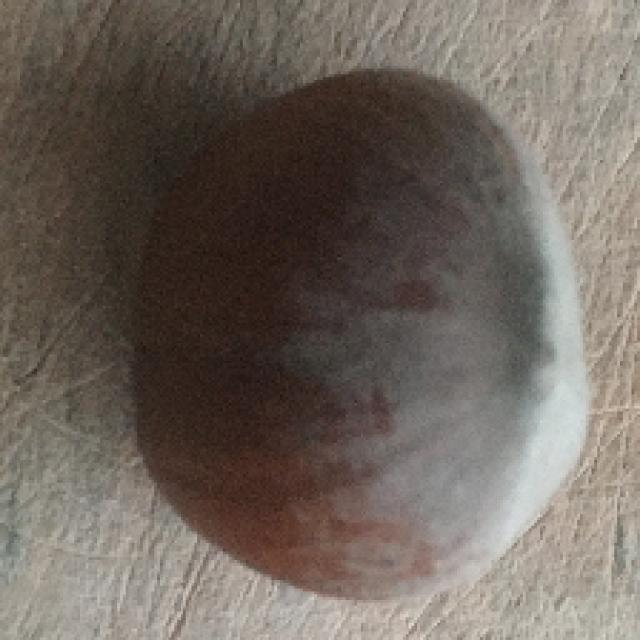qualityHazelnut: (129, 63, 598, 604)
